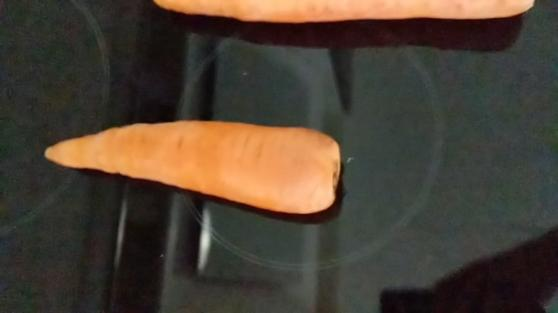carrot: (47, 116, 342, 222)
